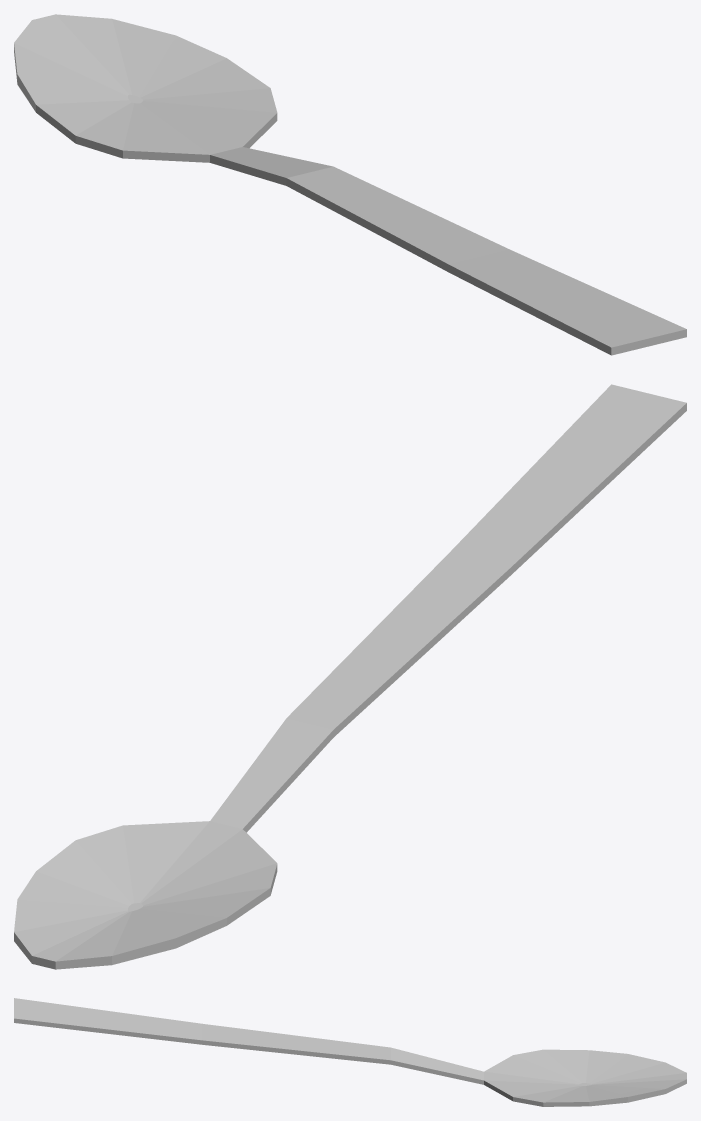
The model's file is C_Spoon.fbx.
3 renders of one model, top to bottom at view 1: azimuth 30°, elevation 25°; view 2: azimuth 150°, elevation 25°; view 3: azimuth 270°, elevation 25°, orthographic. The views are drawn at different scales.
Parts seen in each view (by area): view 1: C_Spoon; view 2: C_Spoon; view 3: C_Spoon.
Boxes of the visible parts, box(x1,y1,x2,y2) form: C_Spoon: box(14, 14, 686, 355); C_Spoon: box(14, 384, 686, 969); C_Spoon: box(14, 998, 686, 1106).
Bounding box in the file's own units: 17.5 × 94.08 × 12.49.
